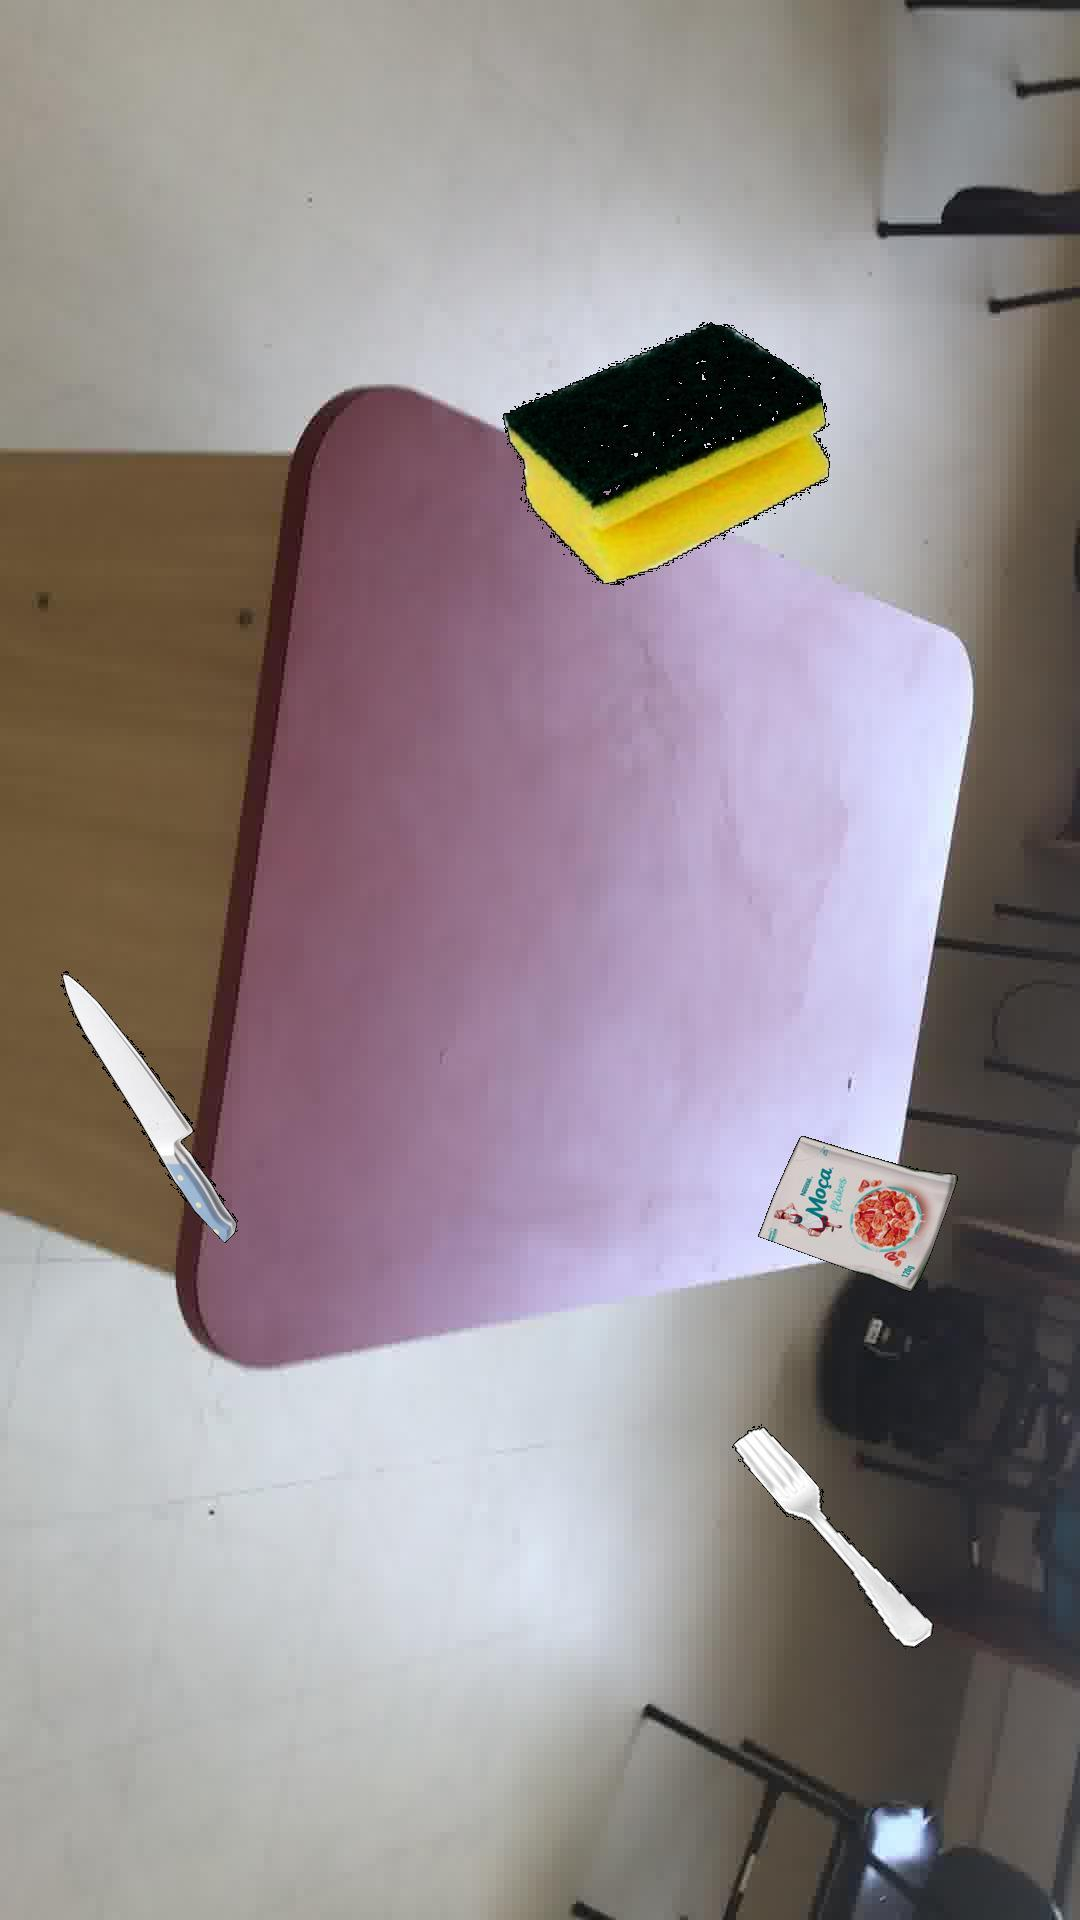corn flakes: (757, 1134, 956, 1291)
fork: (732, 1425, 932, 1647)
knife: (58, 972, 236, 1241)
sponge: (501, 320, 828, 583)
